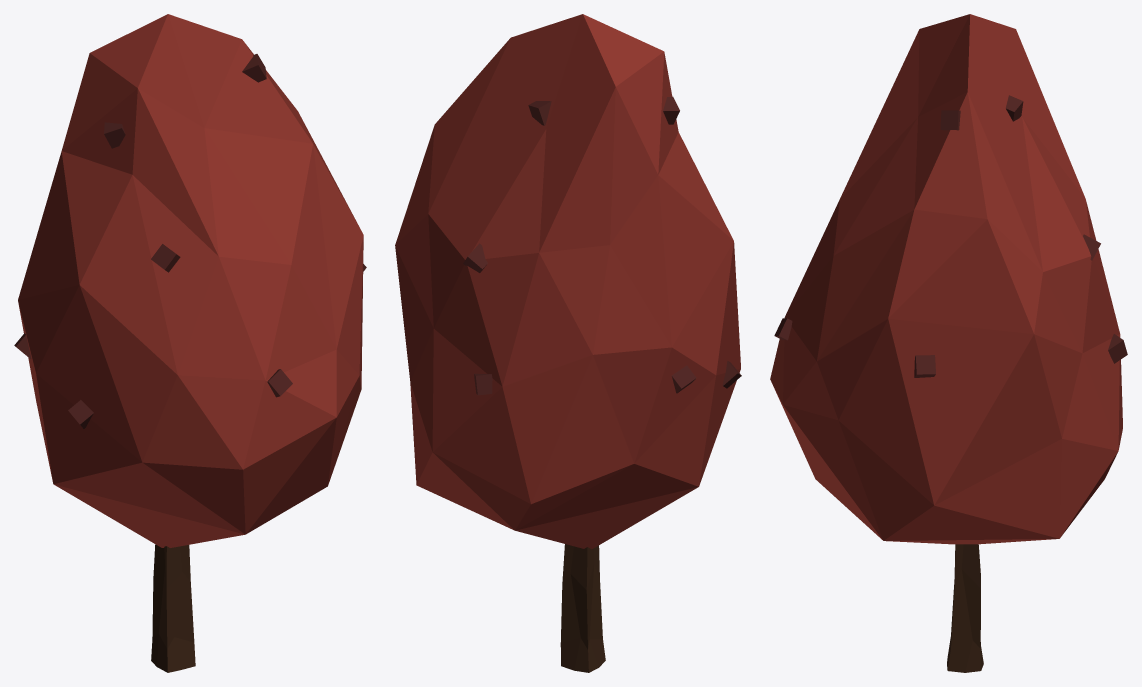
Rendered from Tree_23_Red.fbx.
3 renders of one model, left to right at view 1: azimuth 30°, elevation 25°; view 2: azimuth 150°, elevation 25°; view 3: azimuth 270°, elevation 25°, orthographic.
Visible parts, largest first — view 1: Tree_23_Red_Part_1, Tree_23_Red_Part_2, Tree_23_Red_Part_3; view 2: Tree_23_Red_Part_1, Tree_23_Red_Part_2, Tree_23_Red_Part_3; view 3: Tree_23_Red_Part_1, Tree_23_Red_Part_2, Tree_23_Red_Part_3.
Part boxes in pixels (x1=…): Tree_23_Red_Part_1: x1=18, y1=14, x2=363, y2=547; Tree_23_Red_Part_2: x1=151, y1=544, x2=195, y2=672; Tree_23_Red_Part_3: x1=14, y1=54, x2=366, y2=428; Tree_23_Red_Part_1: x1=395, y1=14, x2=740, y2=549; Tree_23_Red_Part_2: x1=560, y1=544, x2=605, y2=672; Tree_23_Red_Part_3: x1=463, y1=96, x2=741, y2=395; Tree_23_Red_Part_1: x1=770, y1=14, x2=1122, y2=544; Tree_23_Red_Part_2: x1=947, y1=544, x2=983, y2=672; Tree_23_Red_Part_3: x1=774, y1=95, x2=1127, y2=377.
Size of the model in its own units: 398 by 799 by 399.
